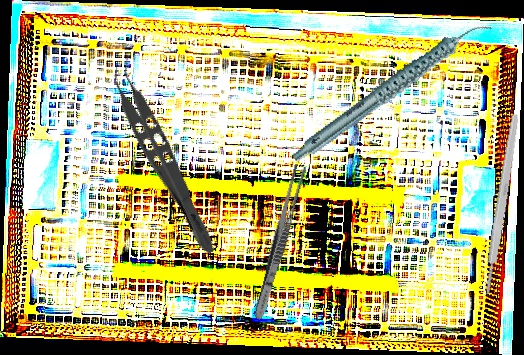Dressing Forceps: (250, 163, 308, 322)
Handpiece: (273, 19, 511, 163)
Scalpel Handle: (481, 112, 521, 297)
Tissue Forceps: (99, 55, 233, 258)
